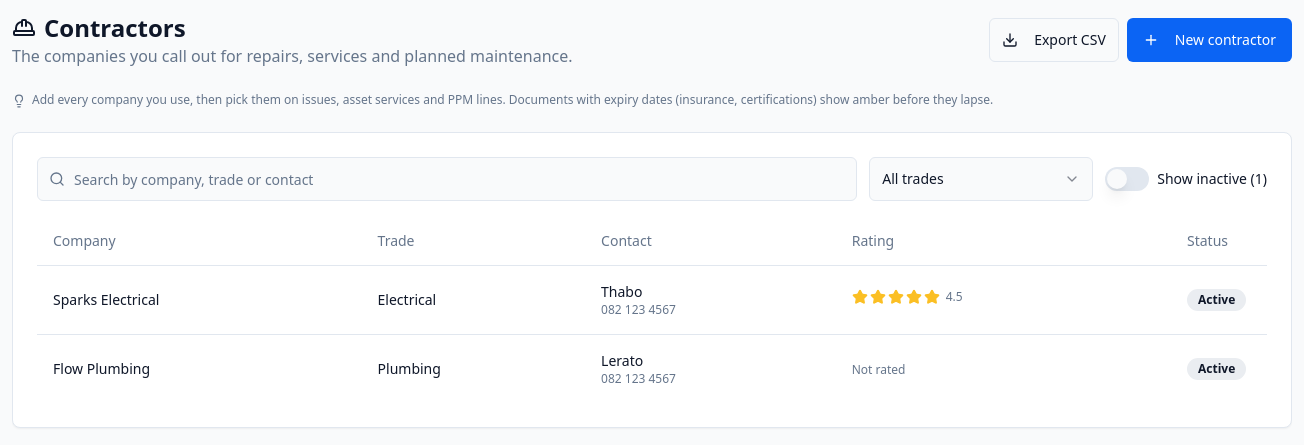
Scenario: Contractors list › search narrows by company, trade or contact
The image size is (1304, 445).
Type "lerato" into the field named "Search contractors". click: (447, 179)
box: [37,157,857,201]
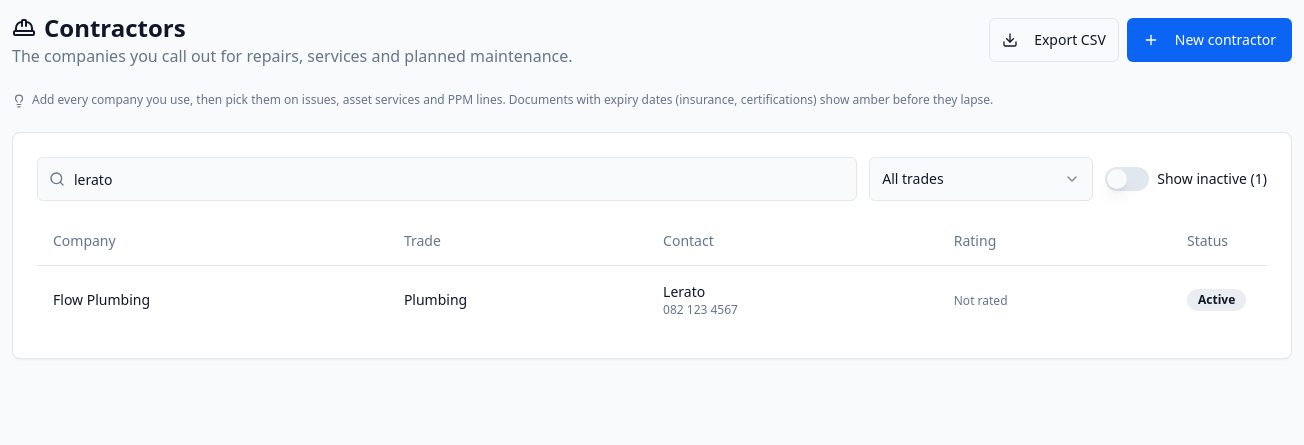
Expected: the text "Flow Plumbing" is shown, [53,290,150,308]
Now the button "Sparks Electrical" is gone
Replace the text in the field named "Search contractors" with "zzz". click: (447, 179)
box: [37,157,857,201]
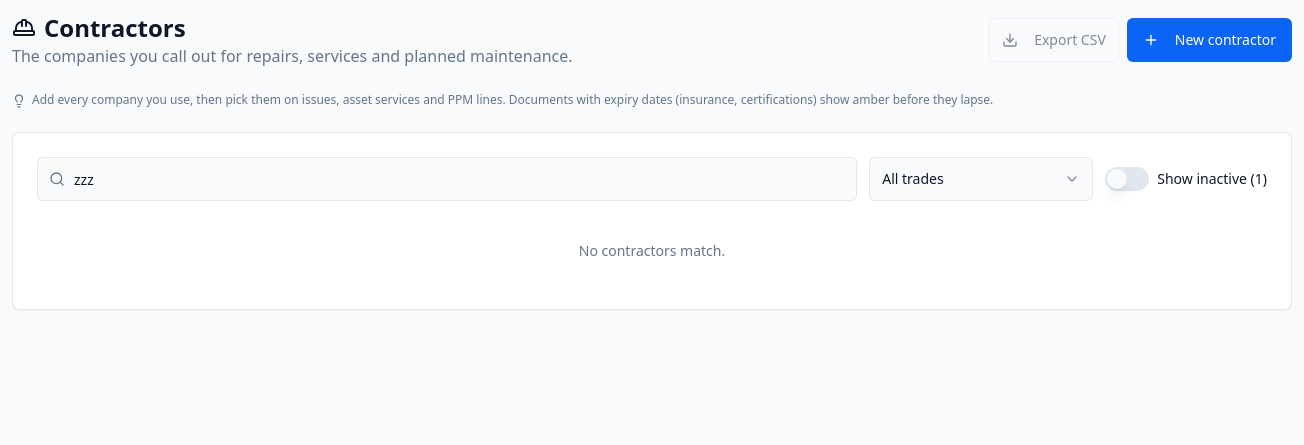
Now the text "No contractors match." is shown, box [579,241,725,260]
